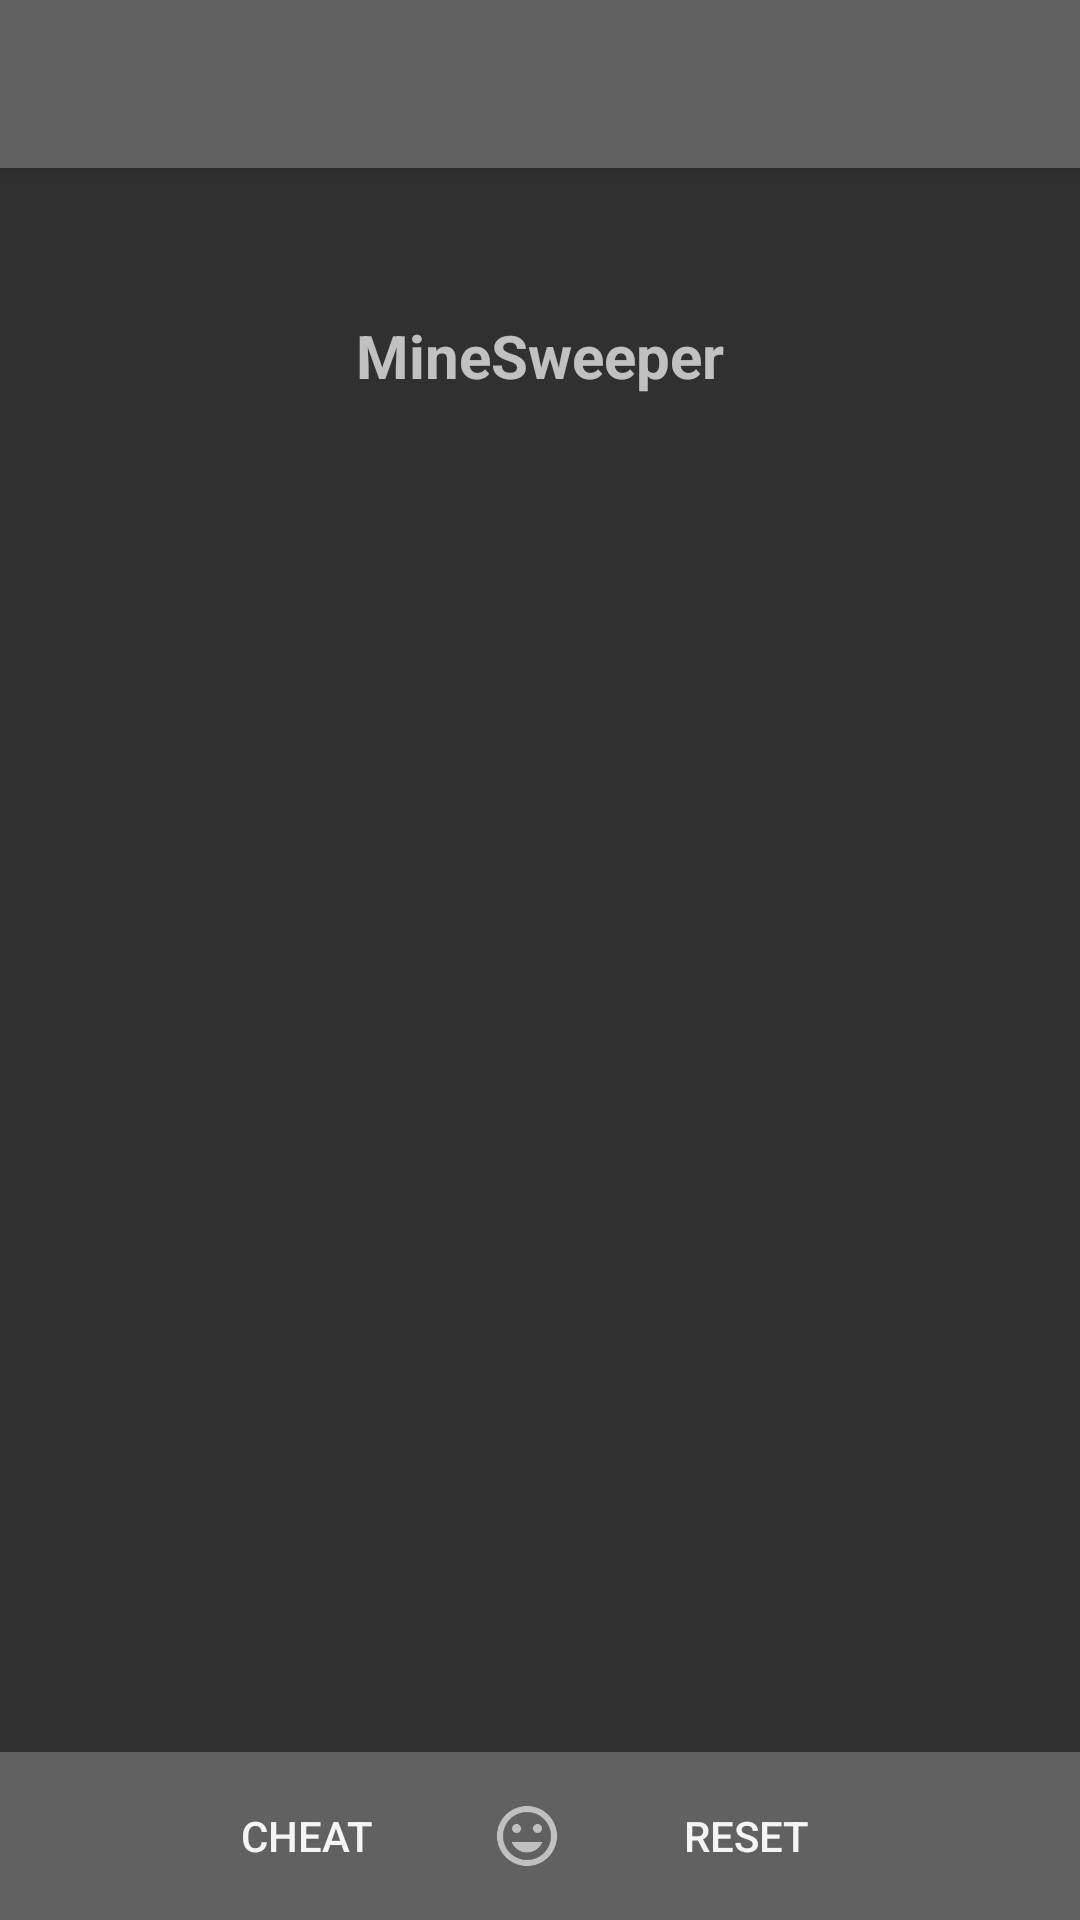

Locate icon controls on the screen. Image size 1080px x 1920px, boxes as (x1, y1, x2, y2).
smile: (497, 1806, 557, 1866)
